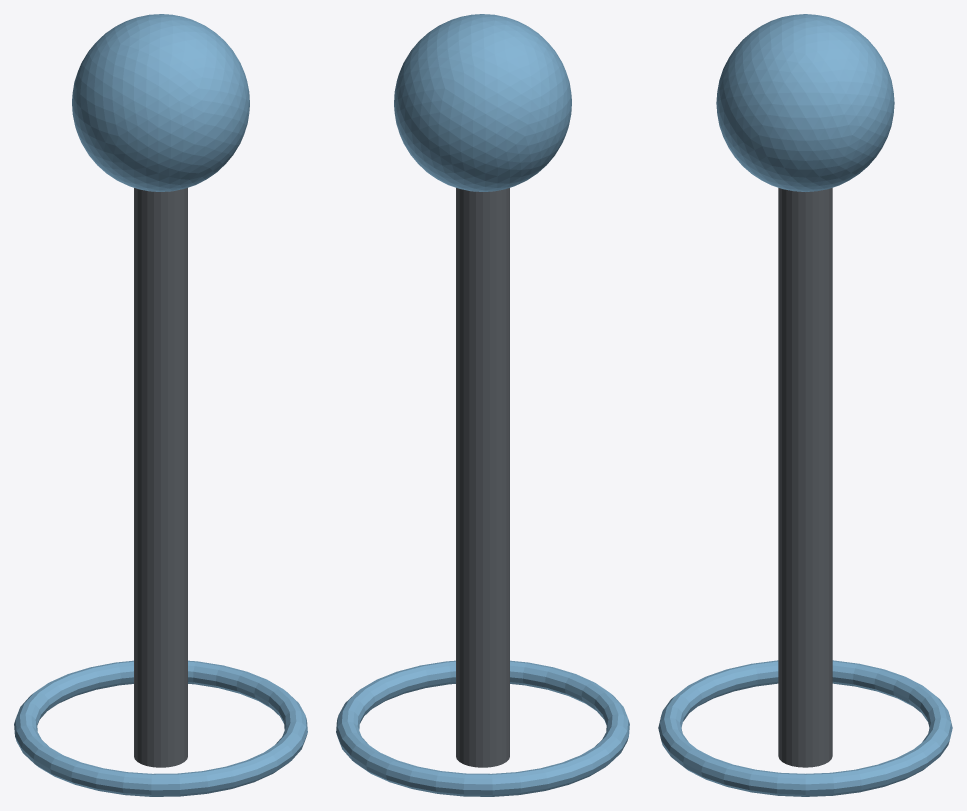
3 renders of one model, left to right at view 1: azimuth 30°, elevation 25°; view 2: azimuth 150°, elevation 25°; view 3: azimuth 270°, elevation 25°, orthographic.
Parts seen in each view (by area): view 1: geometry_0; view 2: geometry_0; view 3: geometry_0.
Part boxes in pixels (x1,y1,x2,y2): geometry_0: (14,14,307,796); geometry_0: (336,14,629,796); geometry_0: (658,14,952,796).
Bounding box in the file's own units: 3.8 × 10.45 × 3.8.
